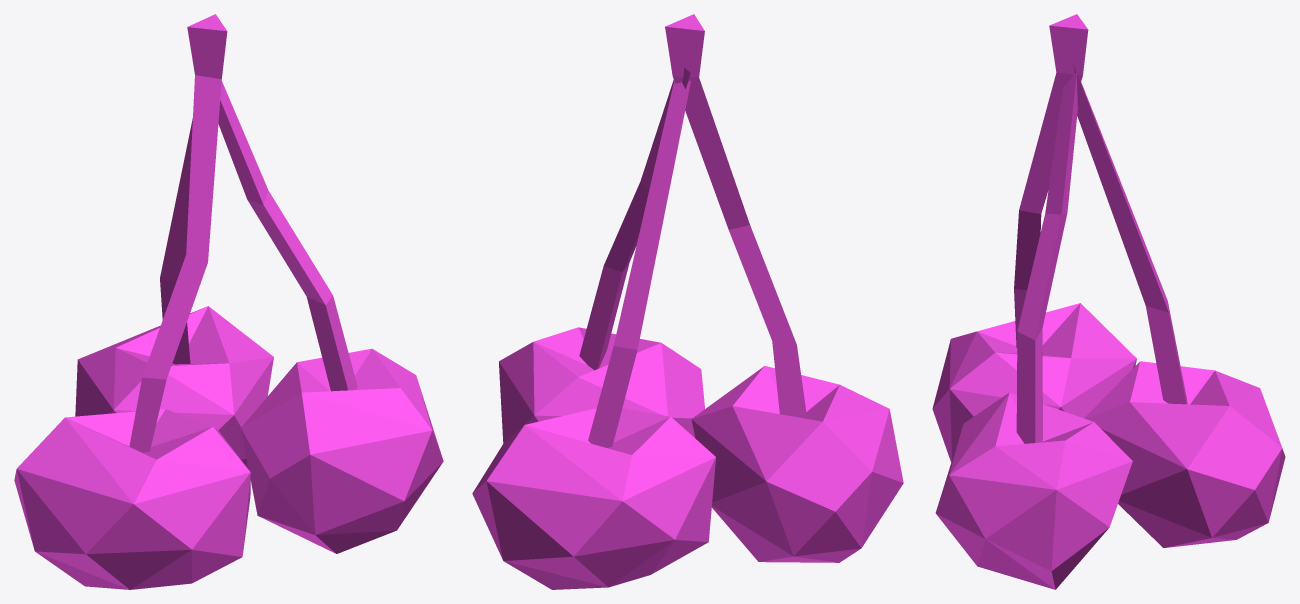
The model's file is SM_Cherry_C.fbx.
3 renders of one model, left to right at view 1: azimuth 30°, elevation 25°; view 2: azimuth 150°, elevation 25°; view 3: azimuth 270°, elevation 25°, orthographic. The views are drawn at different scales.
Visible parts, largest first — view 1: SM_Cherry_C; view 2: SM_Cherry_C; view 3: SM_Cherry_C.
Boxes of the visible parts, left/top/right/bottom form: SM_Cherry_C: left=14, top=14, right=443, bottom=589; SM_Cherry_C: left=472, top=14, right=903, bottom=589; SM_Cherry_C: left=932, top=14, right=1285, bottom=589.
Size of the model in its own units: 0.1138 by 0.1471 by 0.0943.
